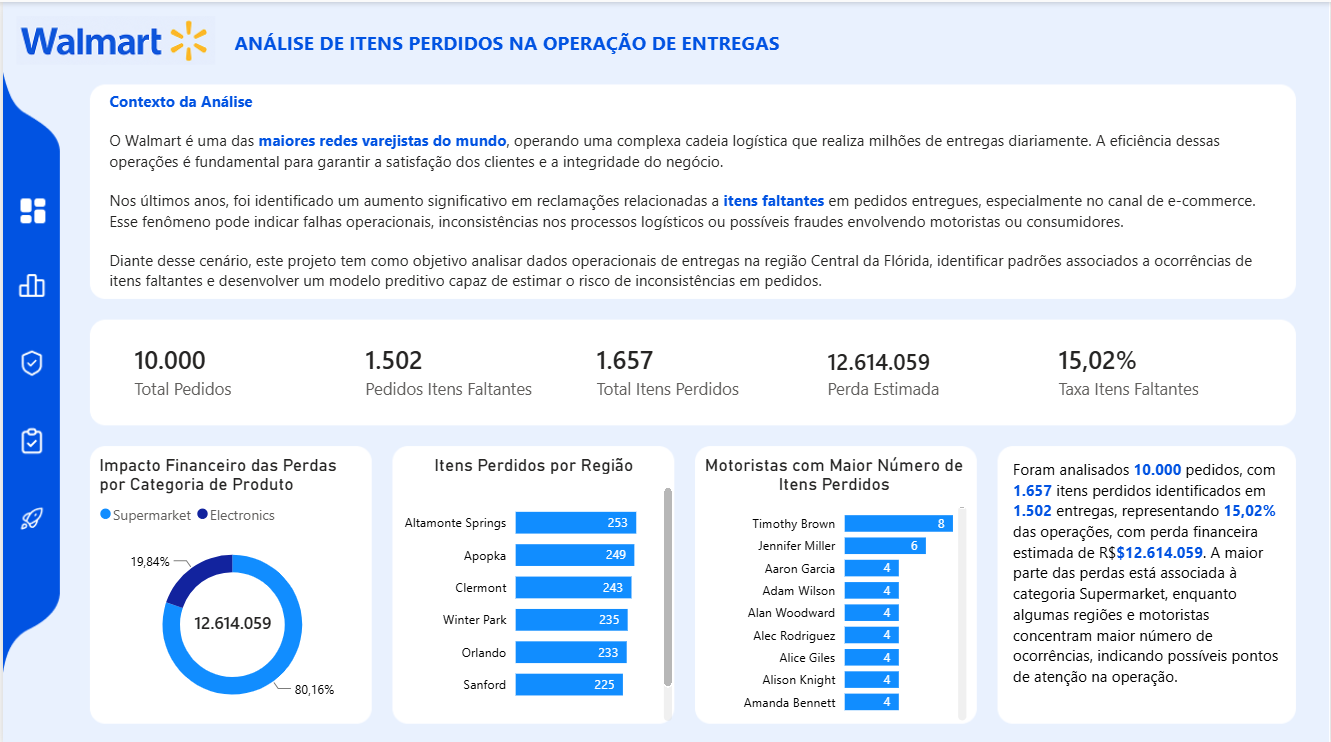

What the dashboard file says about the page in this screenshot:
{"tool":"powerbi","page":{"name":"VG","canvas":[1280,720],"ordinal":0},"visuals":[{"type":"cardVisual","fields":{"Data":["_Medidas.Estimated Loss"]},"box":[155.8,548.2,139.9,99.6],"z":0},{"type":"donutChart","title":"Impacto Financeiro das Perdas por Categoria de Produto","fields":{"Category":["products_data.category"],"Y":["_Medidas.Estimated Loss"]},"box":[88,425.6,266.9,272.7],"z":1000},{"type":"clusteredBarChart","title":"Itens Perdidos por Região","fields":{"Category":["orders.region"],"Y":["_Medidas.Total Missing Items"]},"box":[373.7,425.6,277,272.7],"z":2000},{"type":"clusteredBarChart","title":"Motoristas com Maior Número de Itens Perdidos","fields":{"Category":["drivers_data.driver_name"],"Y":["_Medidas.Orders with Missing Items"]},"box":[669.4,425.6,265.5,272.7],"z":3000},{"type":"textbox","box":[217.9,21.6,734.4,41.8],"z":4000},{"type":"enlightenDataStoryDDFB78A6143E42CFAFBC50CCF18D978D","fields":{"measure":["_Medidas._DS Total Pedidos","_Medidas._DS Itens Perdidos","_Medidas._DS Pedidos com Falta","_Medidas._DS Taxa Faltantes","_Medidas._DS Perda Estimada","_Medidas._DS Top Regiao","_Medidas._DS Top Categoria"]},"box":[969.5,435.7,269.8,262.6],"z":5000},{"type":"textbox","box":[98.1,80.8,1126.8,203.4],"z":6000},{"type":"cardVisual","fields":{"Data":["_Medidas.Total Pedidos Dataset","_Medidas.Orders with Missing Items","_Medidas.Total Missing Items","_Medidas.Estimated Loss","_Medidas.Taxa Itens Faltantes VG"]},"box":[98.1,310.2,1141.2,92.3],"z":7000},{"type":"actionButton","box":[2.4,254.6,51.9,39.8],"z":8000},{"type":"actionButton","box":[2.4,329.4,51.9,39.8],"z":9000},{"type":"actionButton","box":[2.4,403,51.9,39.8],"z":10000},{"type":"actionButton","box":[3.6,477.8,51.9,39.8],"z":11000},{"type":"actionButton","box":[3.6,182.2,51.9,39.8],"z":12000}]}

Visuals, with their boxes on the page's 1280x720 design canvas (x1, y1, x2, y2). These are canvas units, not pixel positions in the 1331x742 screenshot, which may show the page scaled, cropped or inside an application window:
cardVisual - _Medidas.Estimated Loss: left=156, top=548, right=296, bottom=648
"Impacto Financeiro das Perdas por Categoria de Produto" donutChart: left=88, top=426, right=355, bottom=698
"Itens Perdidos por Região" clusteredBarChart: left=374, top=426, right=651, bottom=698
"Motoristas com Maior Número de Itens Perdidos" clusteredBarChart: left=669, top=426, right=935, bottom=698
textbox: left=218, top=22, right=952, bottom=63
enlightenDataStoryDDFB78A6143E42CFAFBC50CCF18D978D - _Medidas._DS Total Pedidos x _Medidas._DS Itens Perdidos: left=970, top=436, right=1239, bottom=698
textbox: left=98, top=81, right=1225, bottom=284
cardVisual - _Medidas.Total Pedidos Dataset x _Medidas.Orders with Missing Items: left=98, top=310, right=1239, bottom=402
actionButton: left=2, top=255, right=54, bottom=294
actionButton: left=2, top=329, right=54, bottom=369
actionButton: left=2, top=403, right=54, bottom=443
actionButton: left=4, top=478, right=56, bottom=518
actionButton: left=4, top=182, right=56, bottom=222
